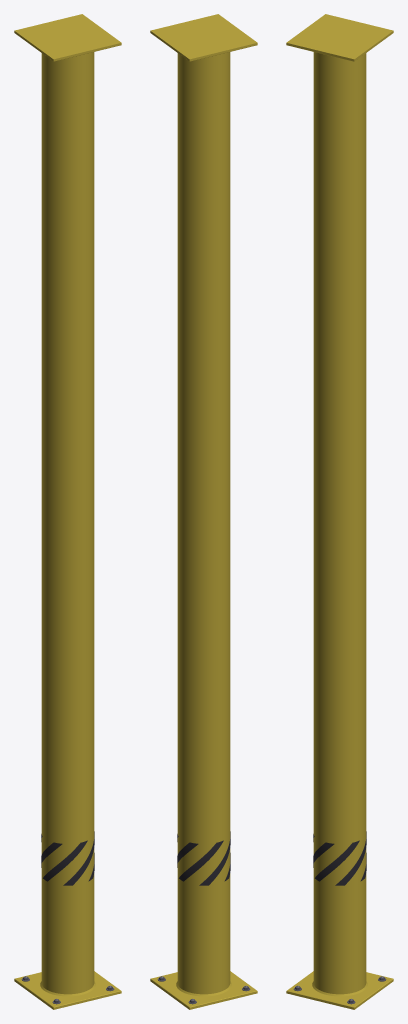
File: pillar.glb
The picture shows the model from 3 angles, left to right: view 1: azimuth 30°, elevation 25°; view 2: azimuth 210°, elevation 25°; view 3: azimuth 330°, elevation 25°; orthographic projection.
Parts seen in each view (by area): view 1: Pillar; view 2: Pillar; view 3: Pillar.
Part boxes in pixels (x1,y1,x2,y2): Pillar: (14, 14, 121, 1009); Pillar: (150, 14, 257, 1009); Pillar: (286, 14, 393, 1009).
Size of the model in its own units: 0.6 by 8 by 0.6.
